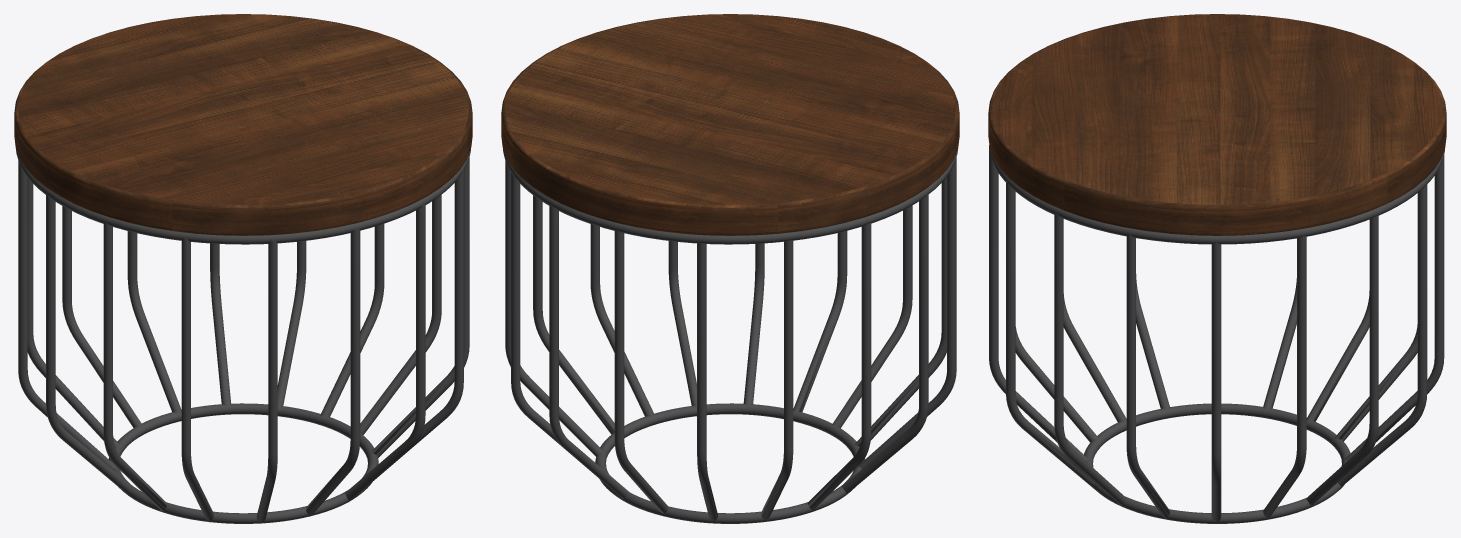
The model's file is table.glb.
3 views of the same model, side by side, from view 1: azimuth 30°, elevation 25°; view 2: azimuth 150°, elevation 25°; view 3: azimuth 270°, elevation 25° (orthographic).
Visible parts, largest first — view 1: Cylinder003_1, Circle005_0; view 2: Cylinder003_1, Circle005_0; view 3: Cylinder003_1, Circle005_0.
Boxes of the visible parts, bbox=[...] form: Cylinder003_1: bbox=[14, 14, 472, 235]; Circle005_0: bbox=[15, 148, 470, 523]; Cylinder003_1: bbox=[501, 14, 959, 235]; Circle005_0: bbox=[503, 148, 958, 523]; Cylinder003_1: bbox=[988, 14, 1446, 235]; Circle005_0: bbox=[989, 145, 1444, 523].
Bounding box in the file's own units: 0.381 × 0.3292 × 0.381.
Materials: 2 (1 with a texture image).
